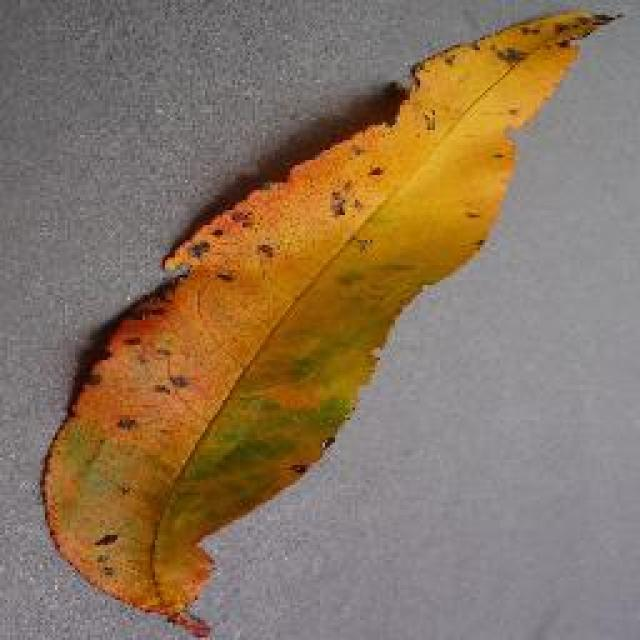Pea_Bacterial_spot: (77, 316, 215, 434), (432, 0, 622, 79), (175, 195, 286, 301), (316, 155, 392, 251)
